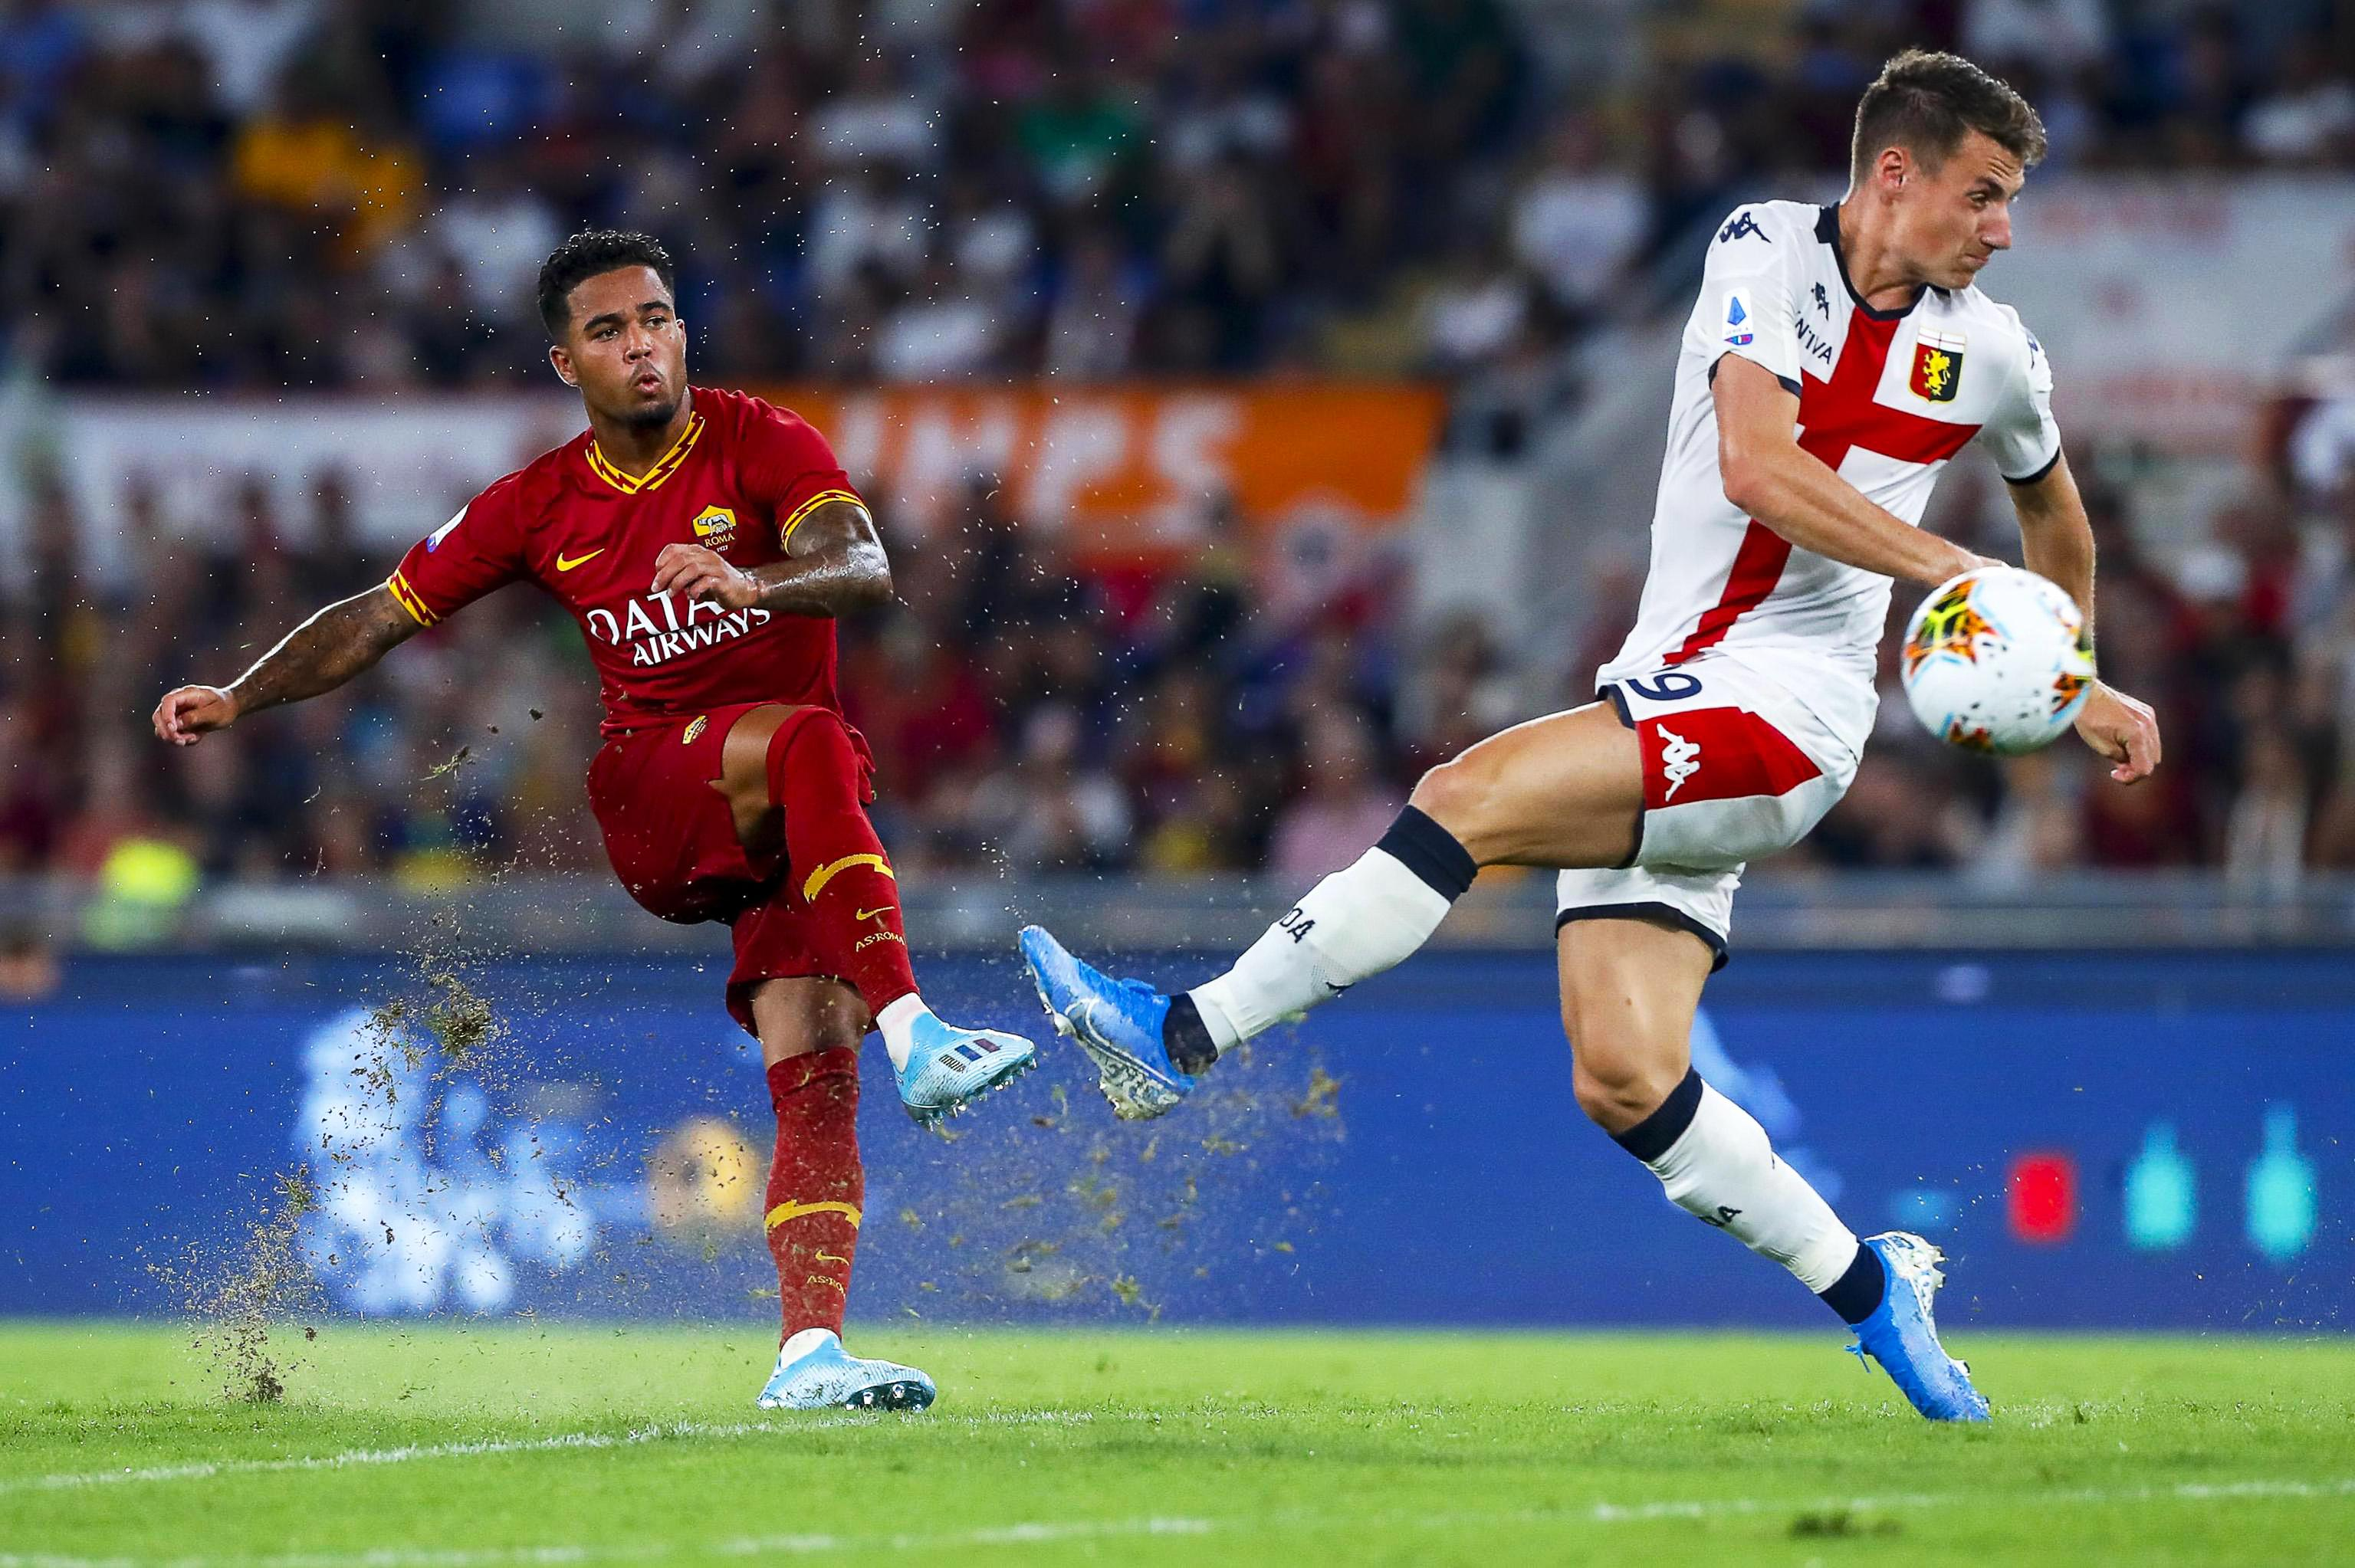ball: (1902, 569, 2094, 758)
